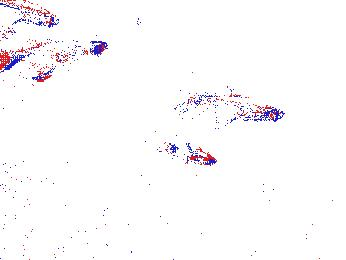X-ray fish: (254, 172, 325, 215)
red belly glassfish: (161, 142, 215, 167)
redtail glassfish: (174, 85, 286, 126), (1, 38, 108, 72), (1, 1, 62, 29)
